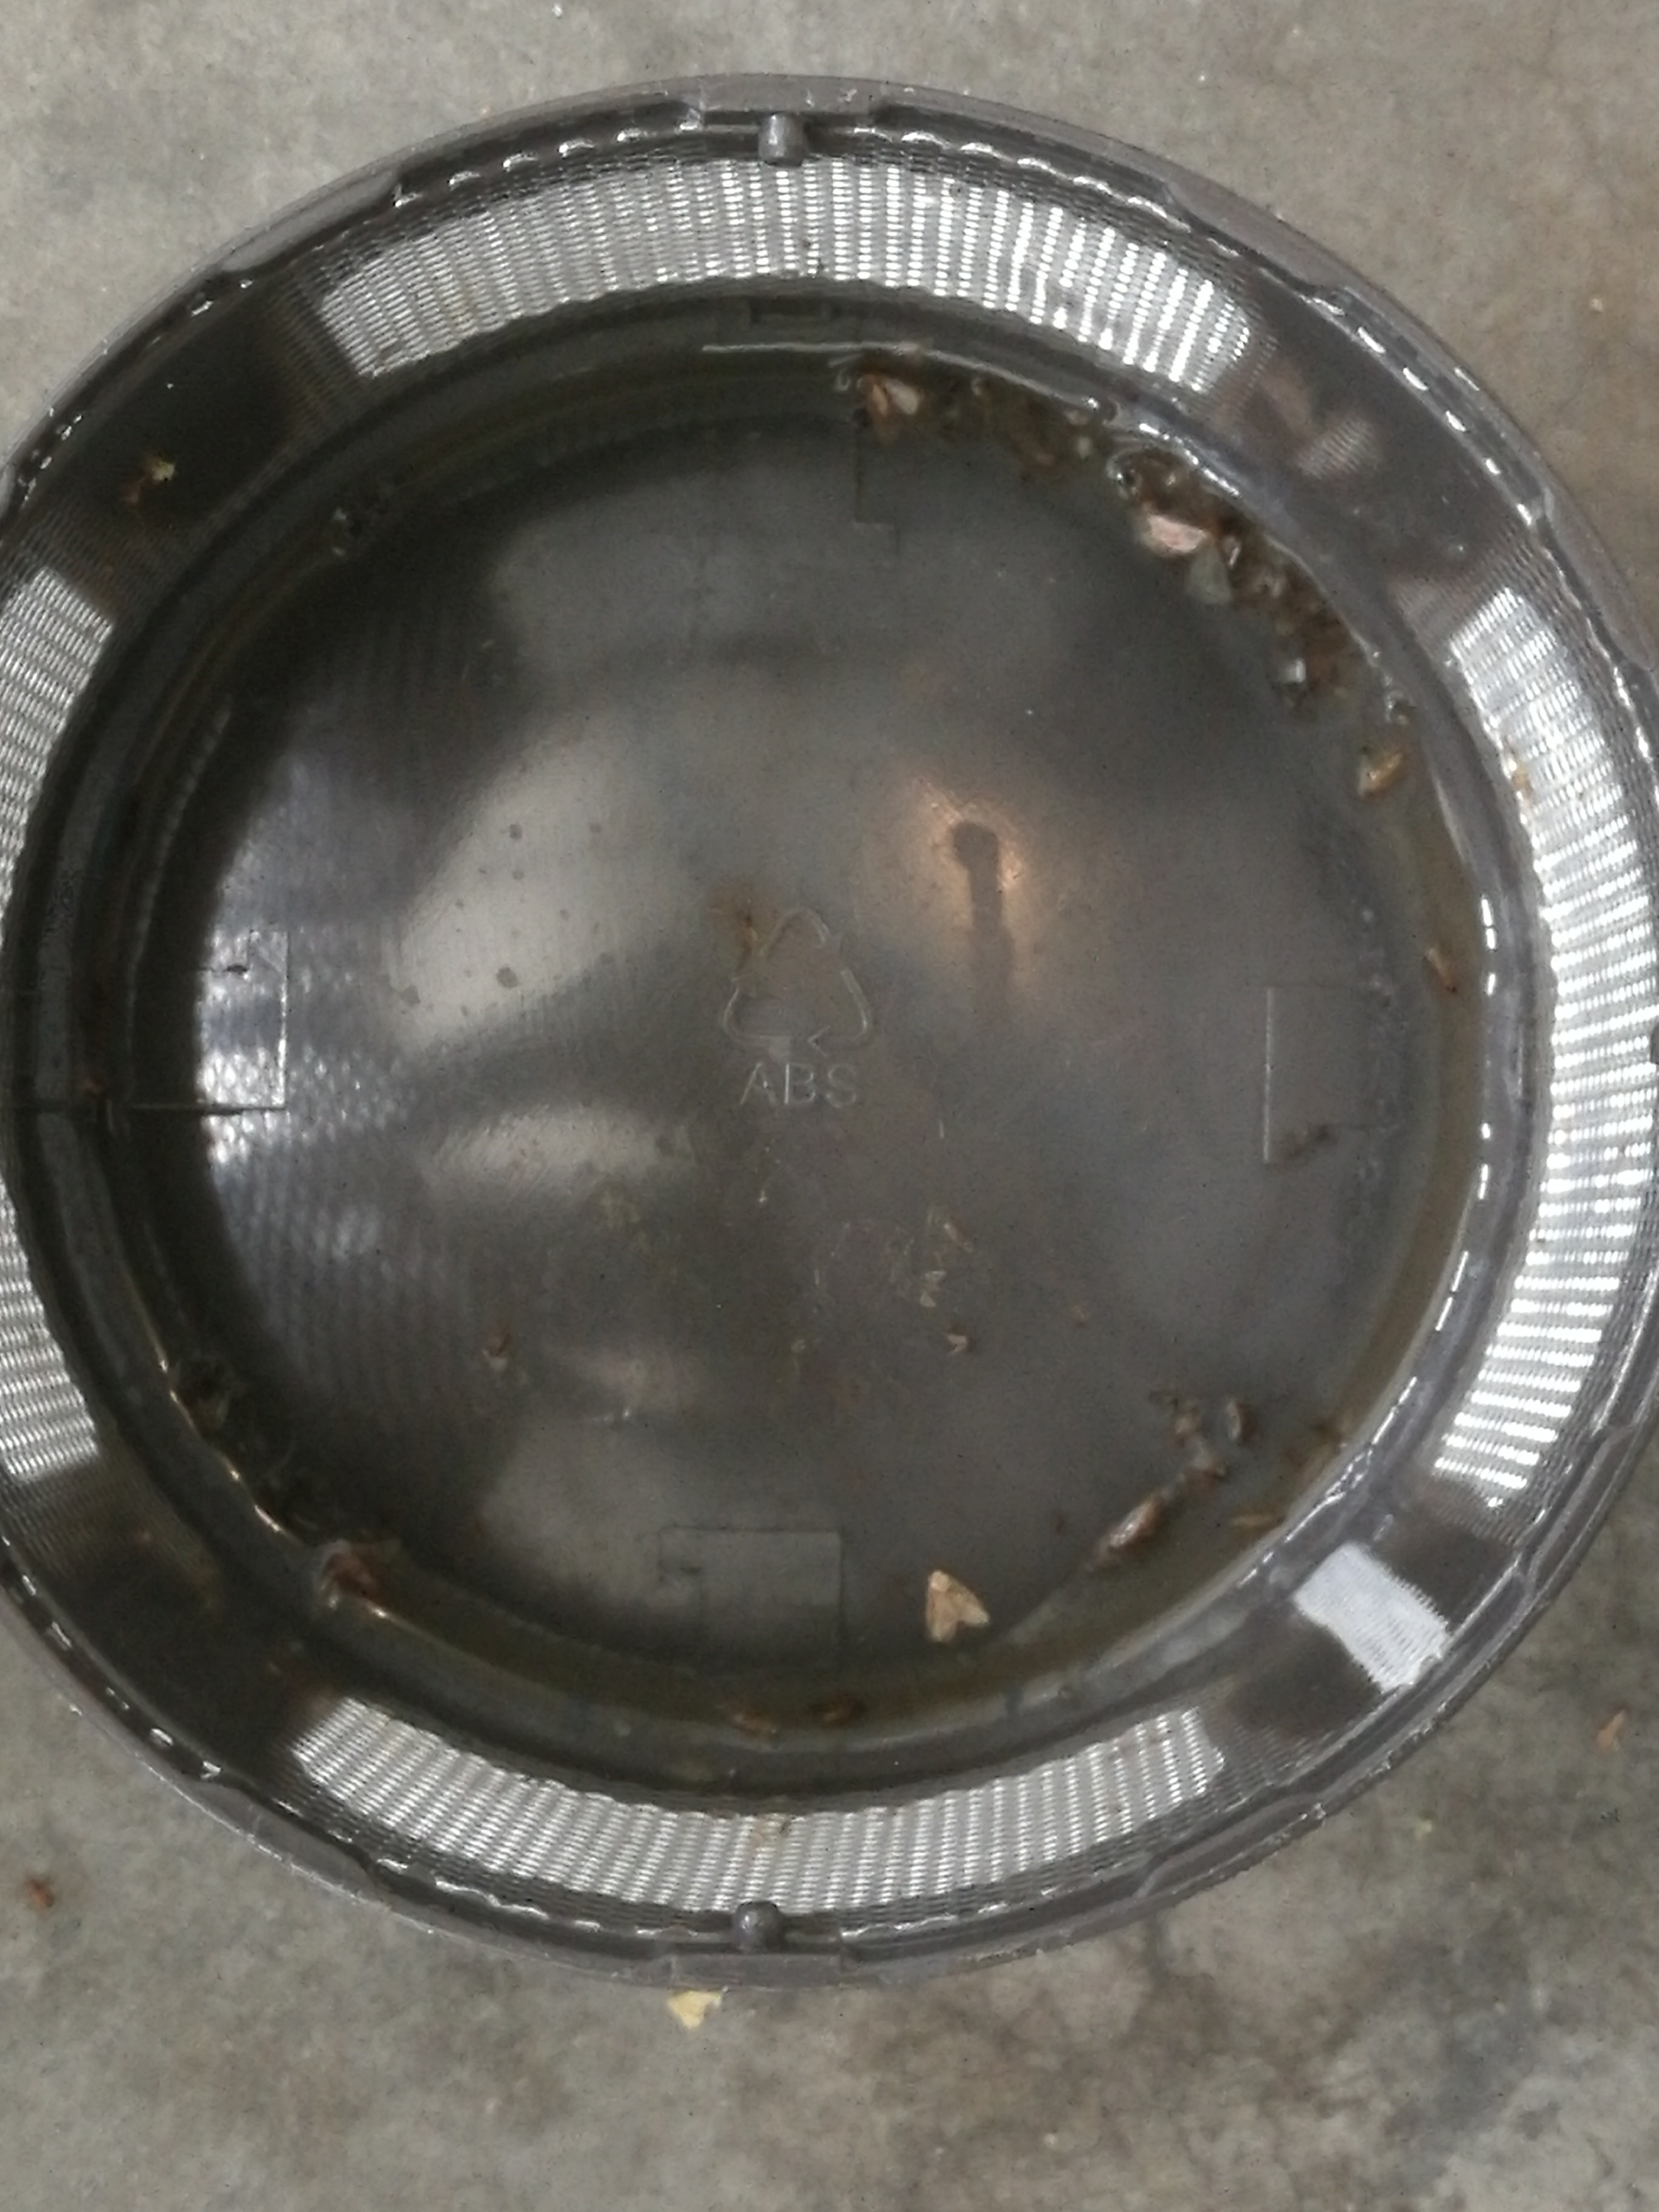moth: (1140, 514, 1234, 603), (925, 1573, 990, 1637), (863, 374, 920, 446)
